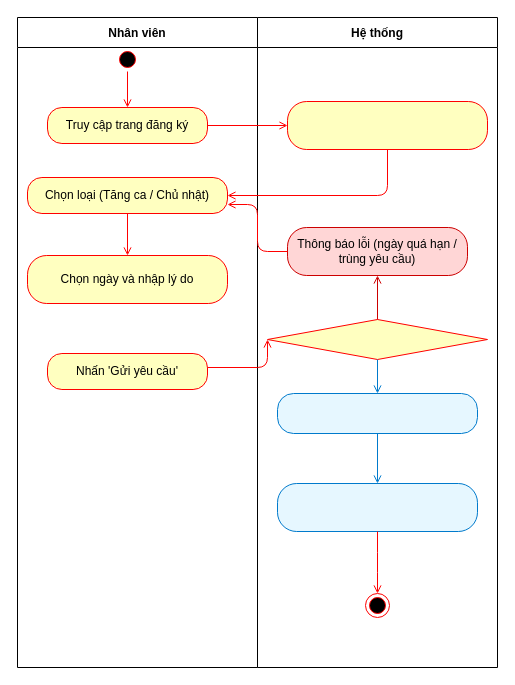
Image size: 515x685. Some labels were removed from this diagram. Here are the shapes that lost their labels. From the top down, the box of each, then its label:
(286, 100, 488, 150): Hệ thống hiển thị form tăng ca
(266, 318, 488, 360): Ngày hợp lệ & chưa đăng ký?
(276, 392, 478, 434): Kiểm tra hợp lệ (BR1)
(276, 482, 478, 532): Lưu yêu cầu và đặt trạng thái
